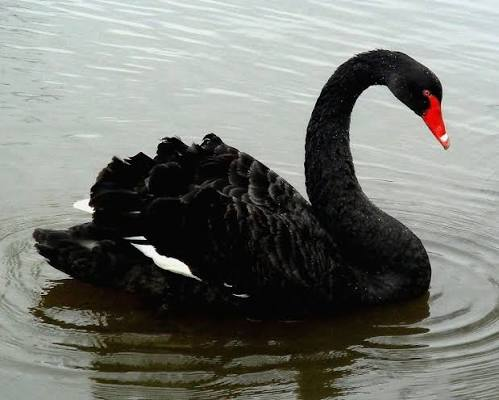black_swan: (31, 48, 452, 314)
